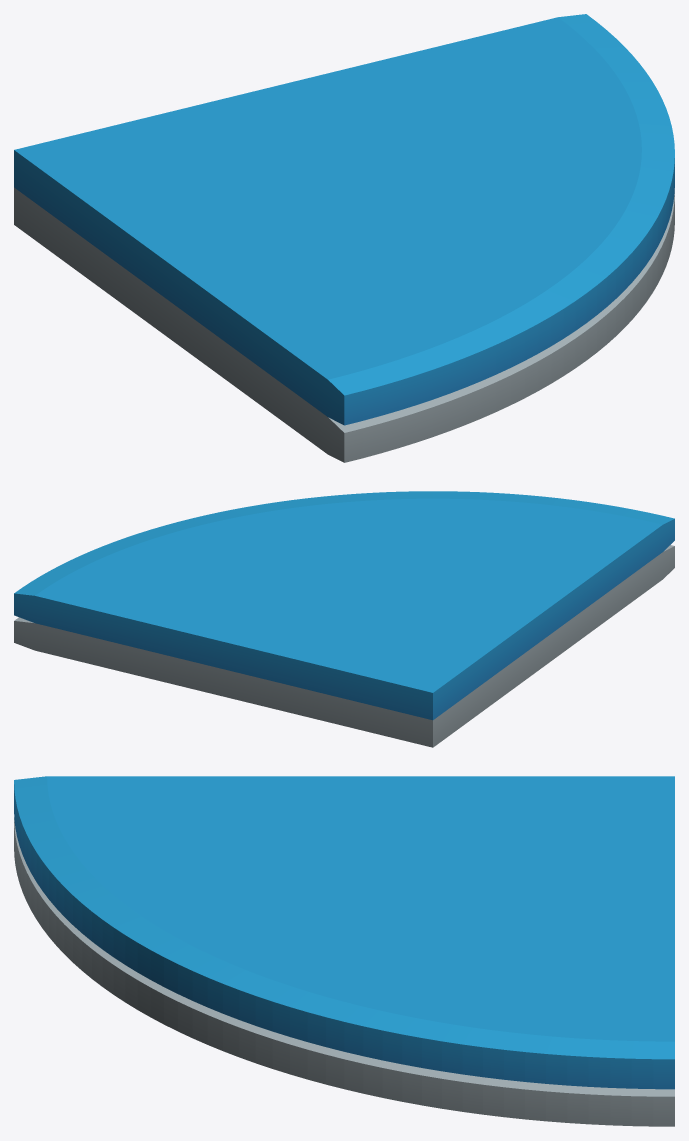
File: kaykit_platform_quarter_circle_8x8x1_blue.glb
3 renders of one model, top to bottom at view 1: azimuth 30°, elevation 25°; view 2: azimuth 150°, elevation 25°; view 3: azimuth 270°, elevation 25°, orthographic. The views are drawn at different scales.
Parts seen in each view (by area): view 1: kaykit_platform_quarter_circle_blue_visual; view 2: kaykit_platform_quarter_circle_blue_visual; view 3: kaykit_platform_quarter_circle_blue_visual.
Boxes of the visible parts, left/top/right/bottom form: kaykit_platform_quarter_circle_blue_visual: left=14, top=14, right=674, bottom=462; kaykit_platform_quarter_circle_blue_visual: left=14, top=491, right=674, bottom=747; kaykit_platform_quarter_circle_blue_visual: left=14, top=776, right=674, bottom=1126.
Size of what is drawn, in the model's own units: 8 by 1 by 8.
Materials: 1 (1 with a texture image).
